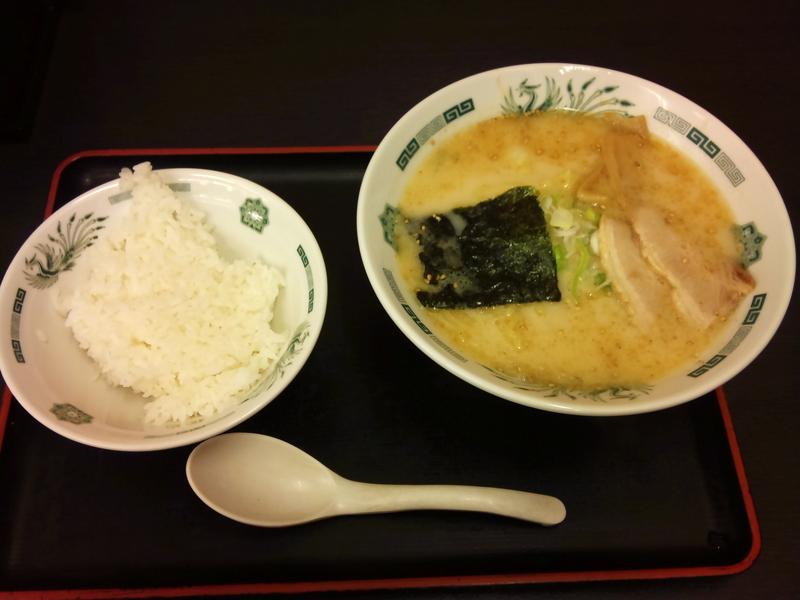plate: (0, 168, 326, 450)
rice: (61, 168, 287, 426)
